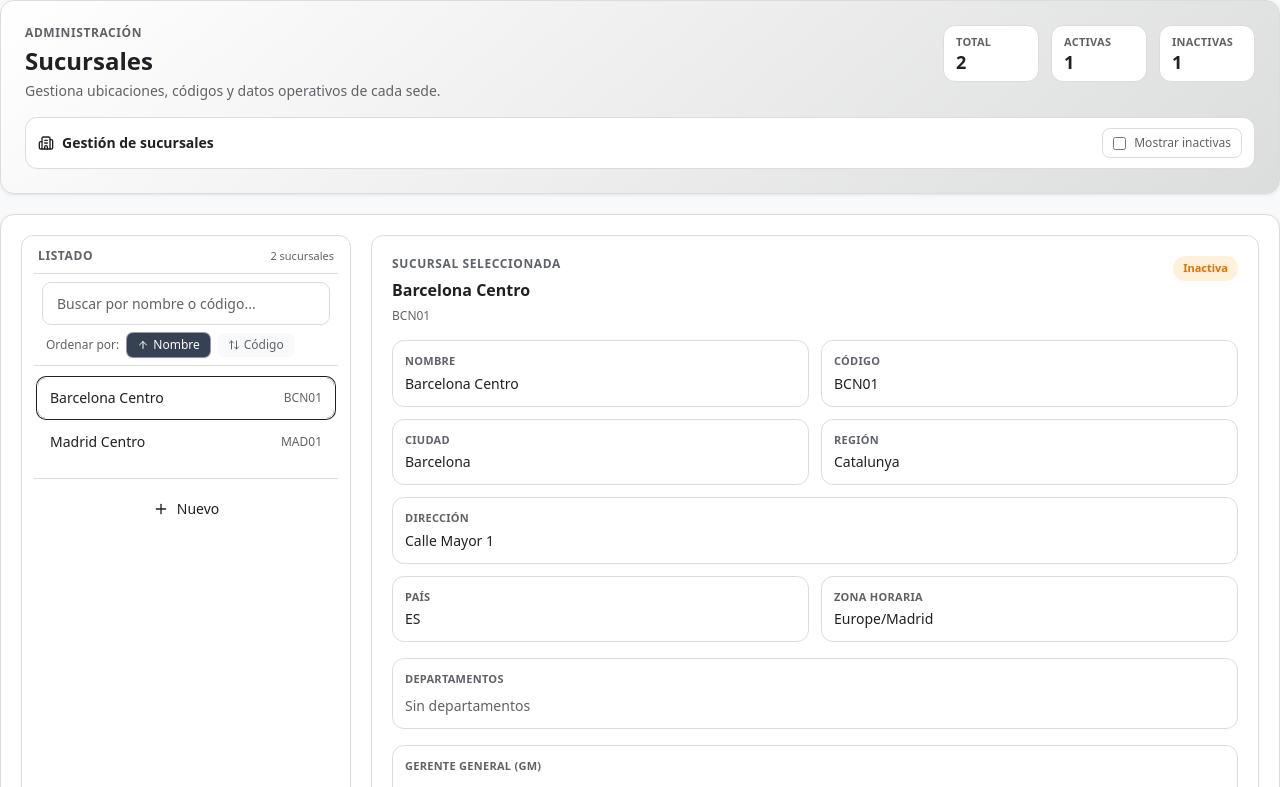
Test: BranchesPage › muestra la primera sucursal de la lista y sus acciones al entrar
Expected: the heading "Barcelona Centro" is shown, [392, 279, 530, 301]
Expected: the text "Calle Mayor 1" is shown, [405, 530, 494, 550]
Click the button "Madrid Centro MAD01". click: (98, 441)
box: [38, 422, 334, 462]
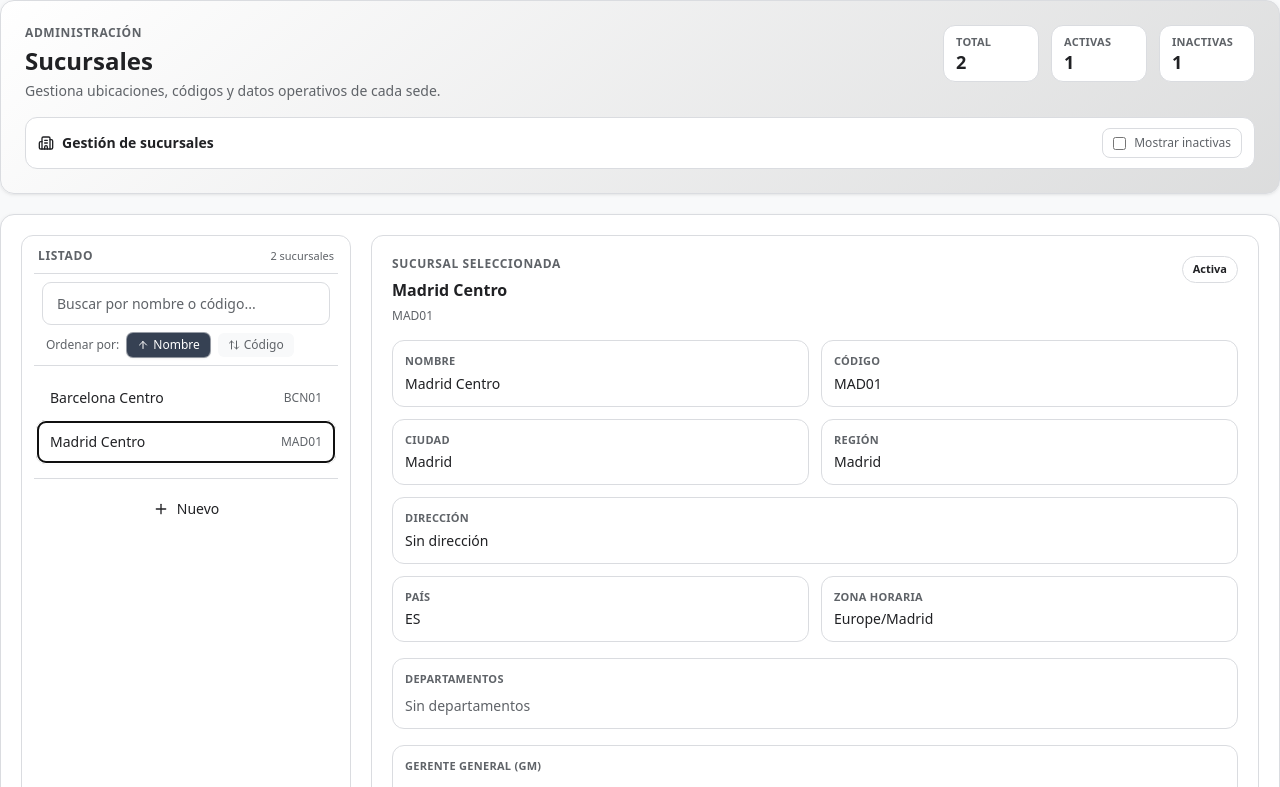
Result: the heading "Madrid Centro" is shown at [392, 279, 507, 301]
